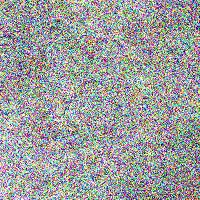rolled-in_scale: (61, 63, 132, 139), (55, 1, 101, 39)
